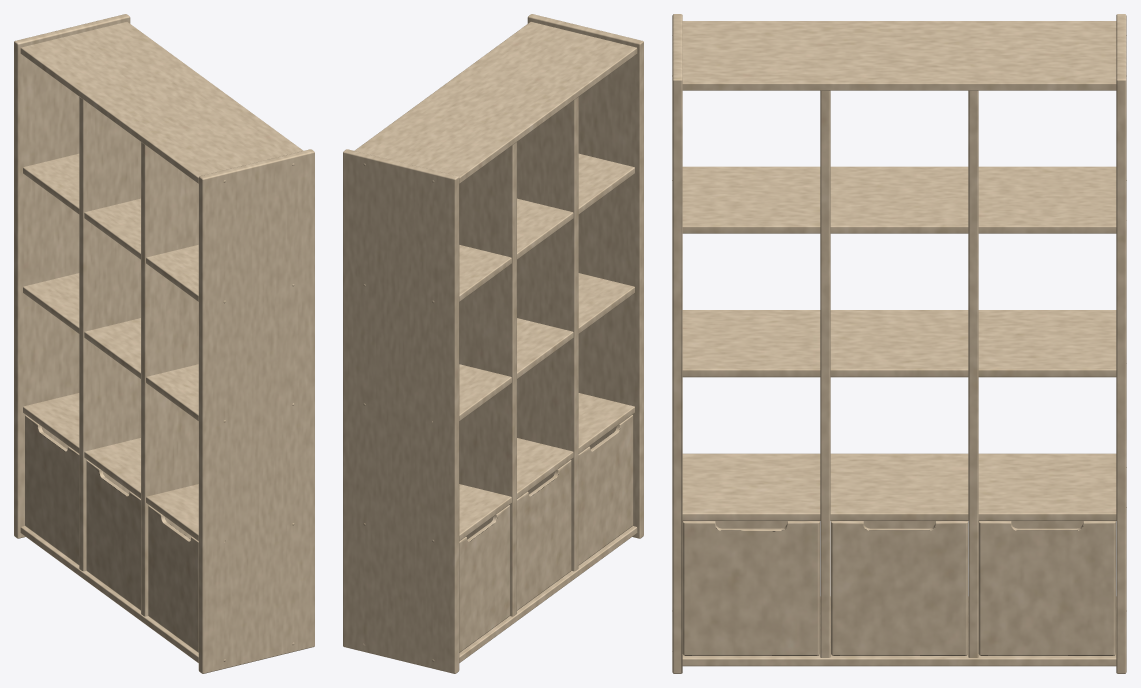
The model's file is wooden-display-shelves-4k-baked.glb.
3 views of the same model, side by side, from view 1: azimuth 30°, elevation 25°; view 2: azimuth 150°, elevation 25°; view 3: azimuth 270°, elevation 25° (orthographic). The views are drawn at different scales.
Parts seen in each view (by area): view 1: wooden-display-shelves-4k-baked-mesh; view 2: wooden-display-shelves-4k-baked-mesh; view 3: wooden-display-shelves-4k-baked-mesh.
Part boxes in pixels (<box>): wooden-display-shelves-4k-baked-mesh: <box>14,14,314,673</box>; wooden-display-shelves-4k-baked-mesh: <box>343,14,643,673</box>; wooden-display-shelves-4k-baked-mesh: <box>672,14,1126,673</box>.
Bounding box in the file's own units: 0.3714 × 1.56 × 1.08.
1 material, 1 textured.
